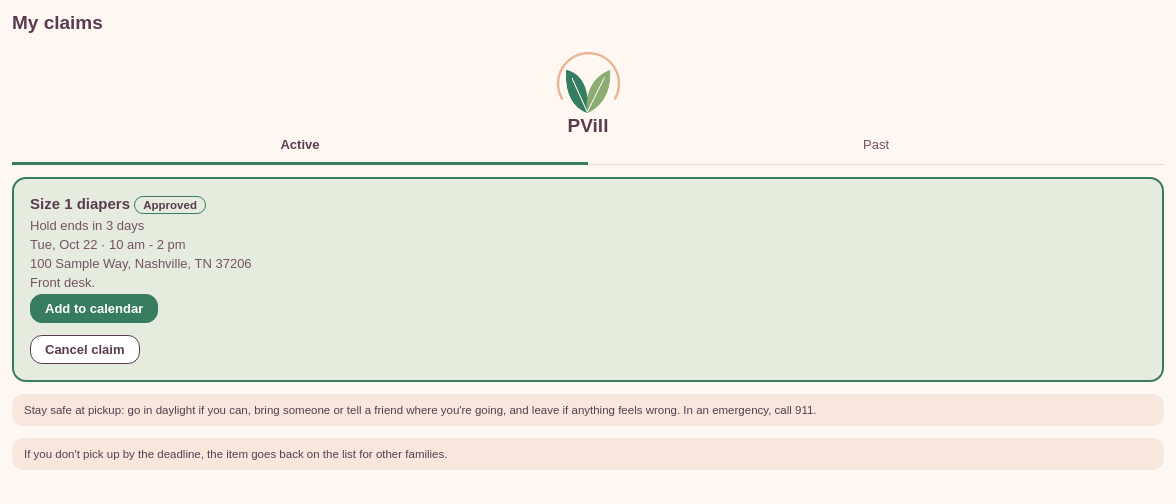
Test: MyClaimsPage › keeps the claim and says so when canceling fails
Click the button "Cancel claim".
click(85, 349)  # box [30, 335, 140, 364]
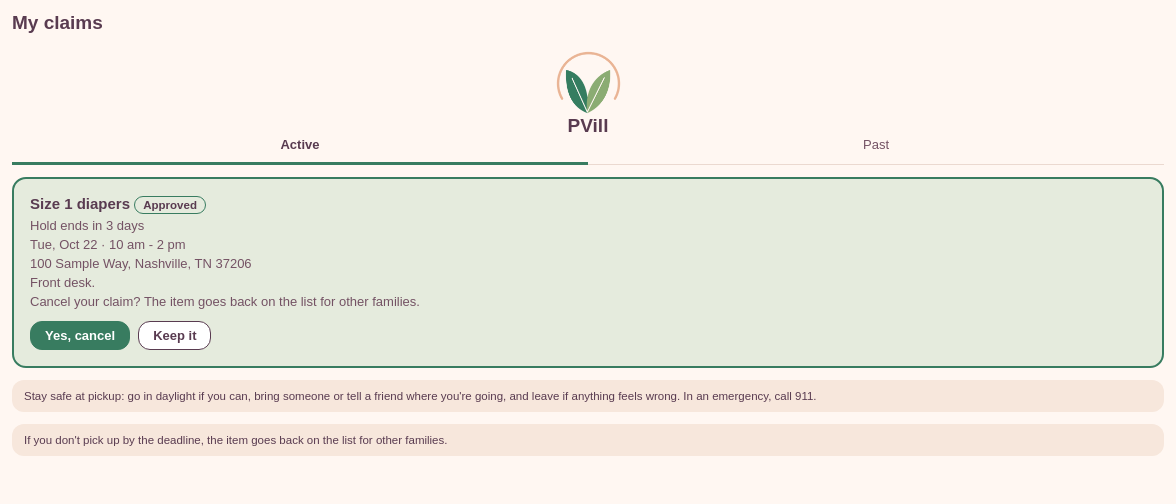
Click the button "Yes, cancel".
click(80, 335)  # box [30, 321, 130, 350]
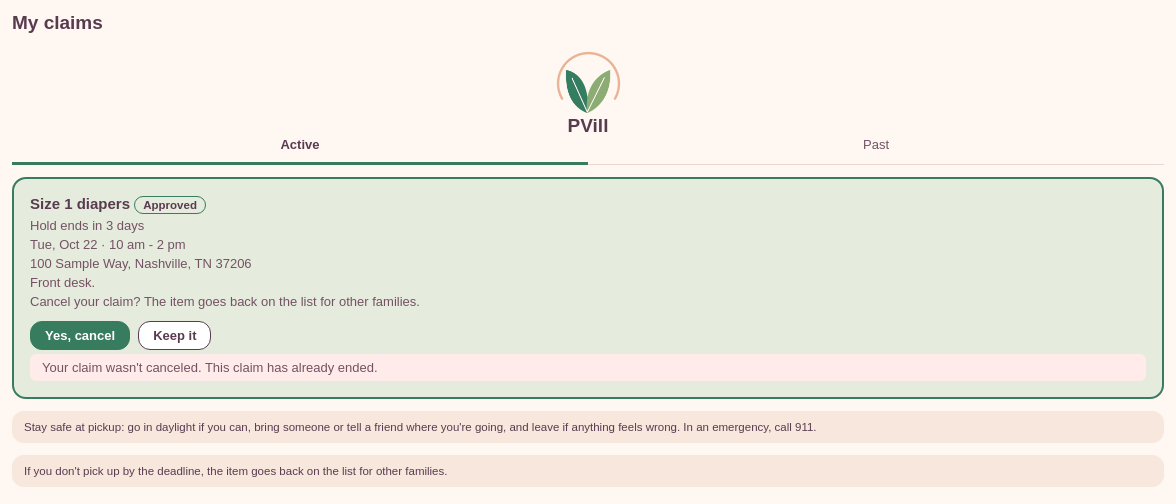
expect the text "Your claim wasn't canceled. This claim has already ended." is shown: met, box [30, 354, 1146, 381]
